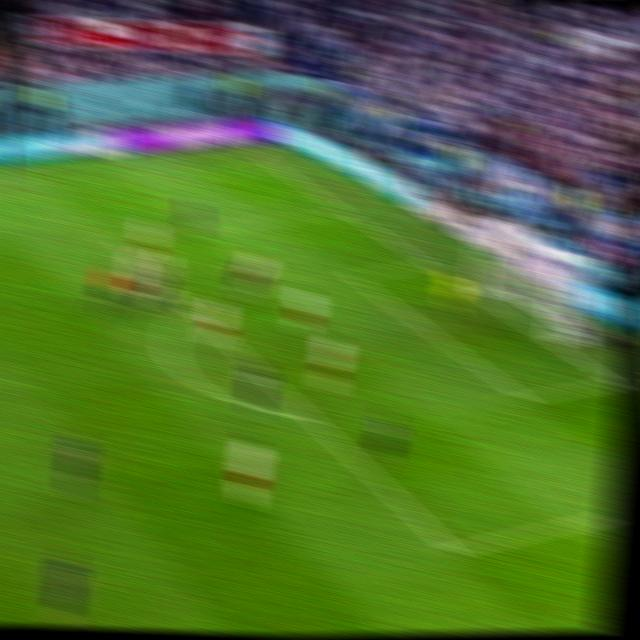bigarea_bottom_inner: (434, 532, 470, 568)
bigarea_top_inner: (99, 226, 128, 249)
bigarea_top_outter: (329, 200, 360, 221)
bottom_arc_area_intersection: (292, 404, 324, 429)
corner: (244, 147, 273, 164)
smallarea_bottom_inner: (506, 380, 542, 413)
smallarea_bottom_outter: (598, 368, 629, 396)
smallarea_top_inner: (336, 263, 368, 287)
smallarea_top_outter: (414, 252, 442, 276)
top_arc_area_intersection: (176, 297, 206, 322)
